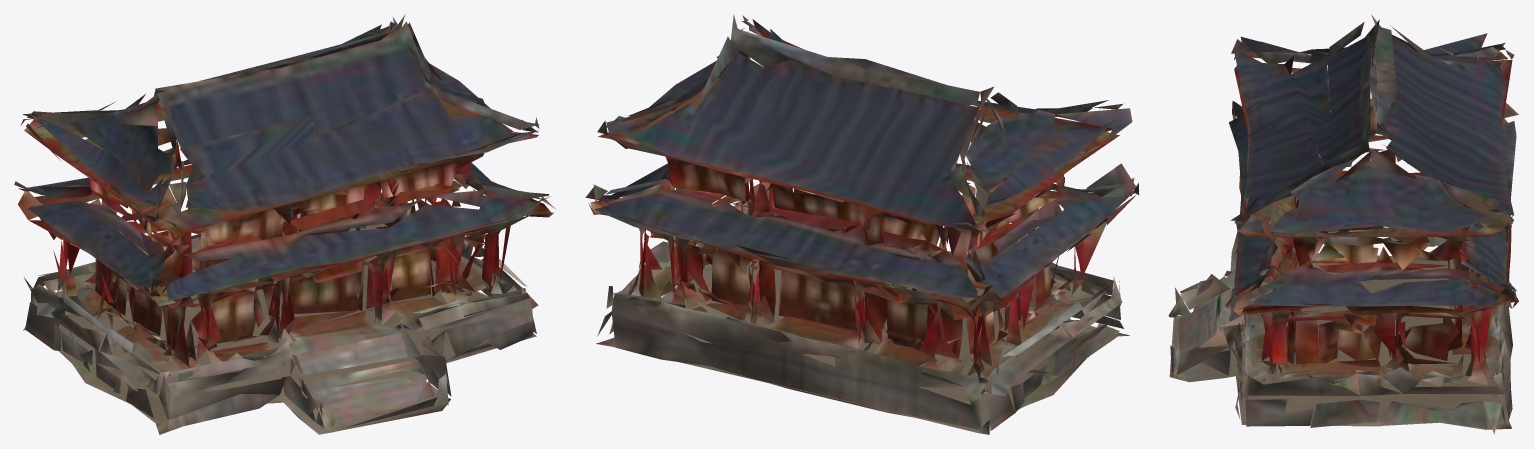
Rendered from casa_g_lod2.glb.
3 views of the same model, side by side, from view 1: azimuth 30°, elevation 25°; view 2: azimuth 150°, elevation 25°; view 3: azimuth 270°, elevation 25° (orthographic). The views are drawn at different scales.
Visible parts, largest first — view 1: casa_g; view 2: casa_g; view 3: casa_g.
Boxes of the visible parts, left/top/right/bottom form: casa_g: left=14, top=14, right=555, bottom=434; casa_g: left=585, top=14, right=1139, bottom=434; casa_g: left=1168, top=14, right=1518, bottom=434.
Bounding box in the file's own units: 14.41 × 10.25 × 11.21.
1 material, 1 textured.
